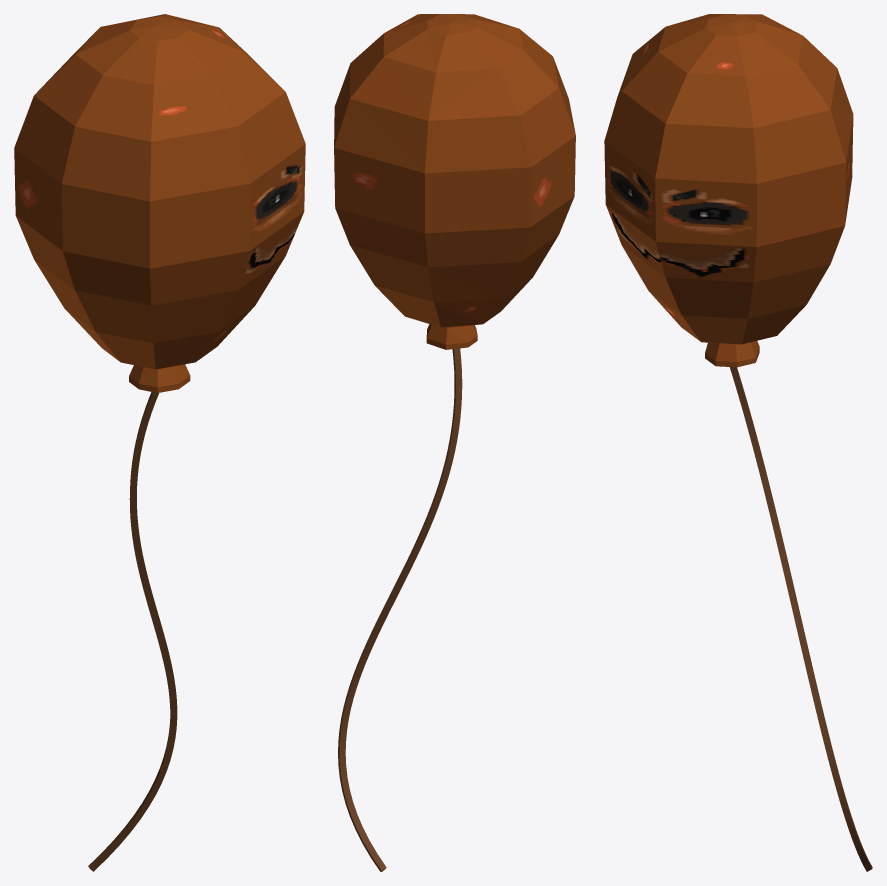
File: balão.fbx
3 renders of one model, left to right at view 1: azimuth 30°, elevation 25°; view 2: azimuth 150°, elevation 25°; view 3: azimuth 270°, elevation 25°, orthographic. The views are drawn at different scales.
Visible parts, largest first — view 1: Balao; view 2: Balao; view 3: Balao.
Boxes of the visible parts, x1=… form: Balao: x1=14, y1=14, x2=305, y2=871; Balao: x1=334, y1=14, x2=575, y2=871; Balao: x1=604, y1=14, x2=872, y2=871.
Bounding box in the file's own units: 31.74 × 116 × 33.25.
Materials: 1 (1 with a texture image).
